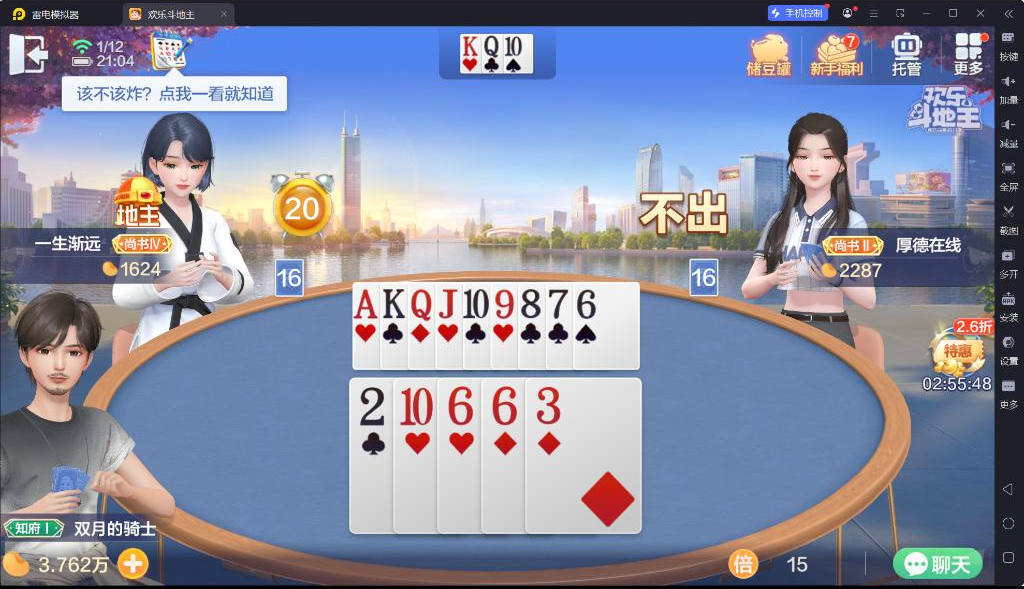A: (353, 287, 379, 321)
J: (437, 288, 459, 320)
K: (382, 287, 406, 321), (461, 35, 480, 58)
Q: (410, 288, 433, 322), (483, 35, 501, 58)
eight: (519, 286, 543, 320)
nine: (493, 287, 516, 321)
seven: (547, 284, 571, 320)
six: (445, 383, 477, 429), (488, 382, 518, 428), (575, 284, 598, 321)
ten: (399, 383, 435, 429), (463, 286, 489, 320), (505, 35, 522, 57)
three: (534, 383, 564, 427)
two: (355, 383, 389, 429)
